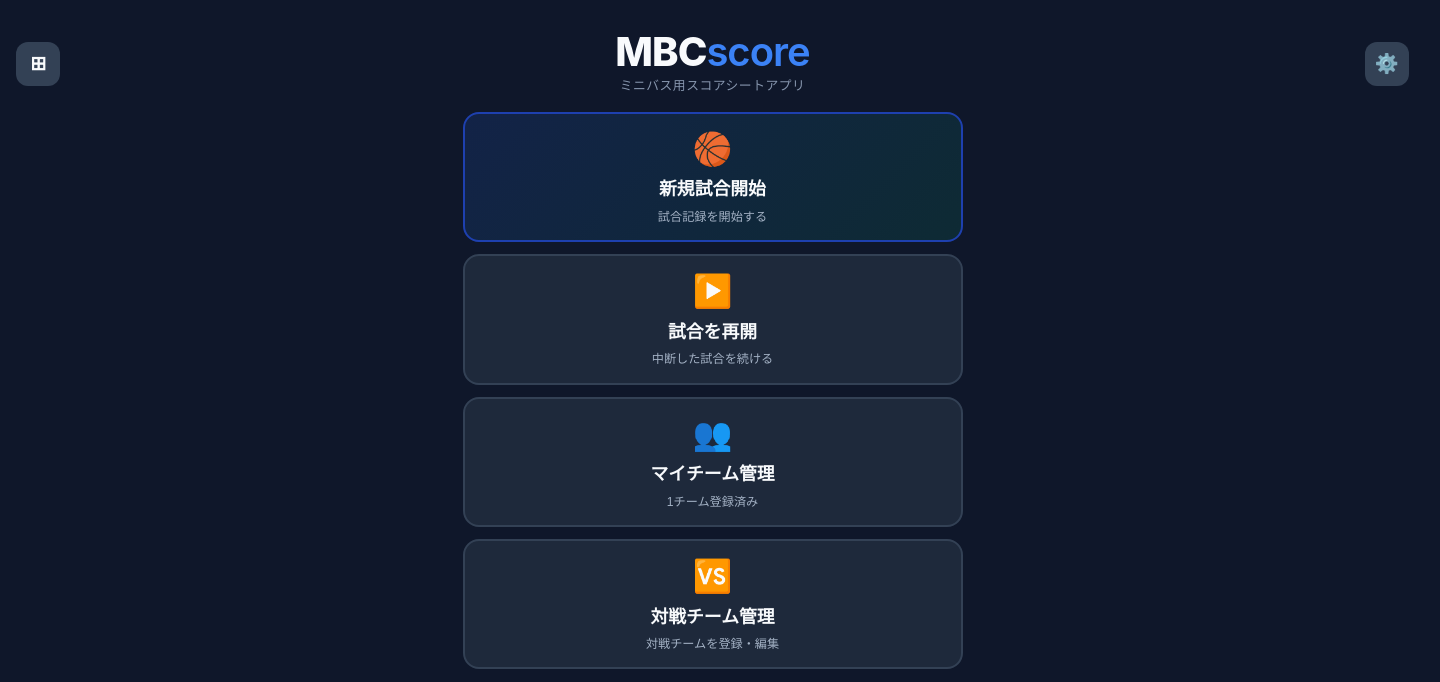
Test case: 交代要員のテクニカル: 6個目以降の確認 › 5ファウルのベンチ選手を選ぶと確認が出る
Click the text "試合を再開" at (713, 330), box [668,317,757,343]
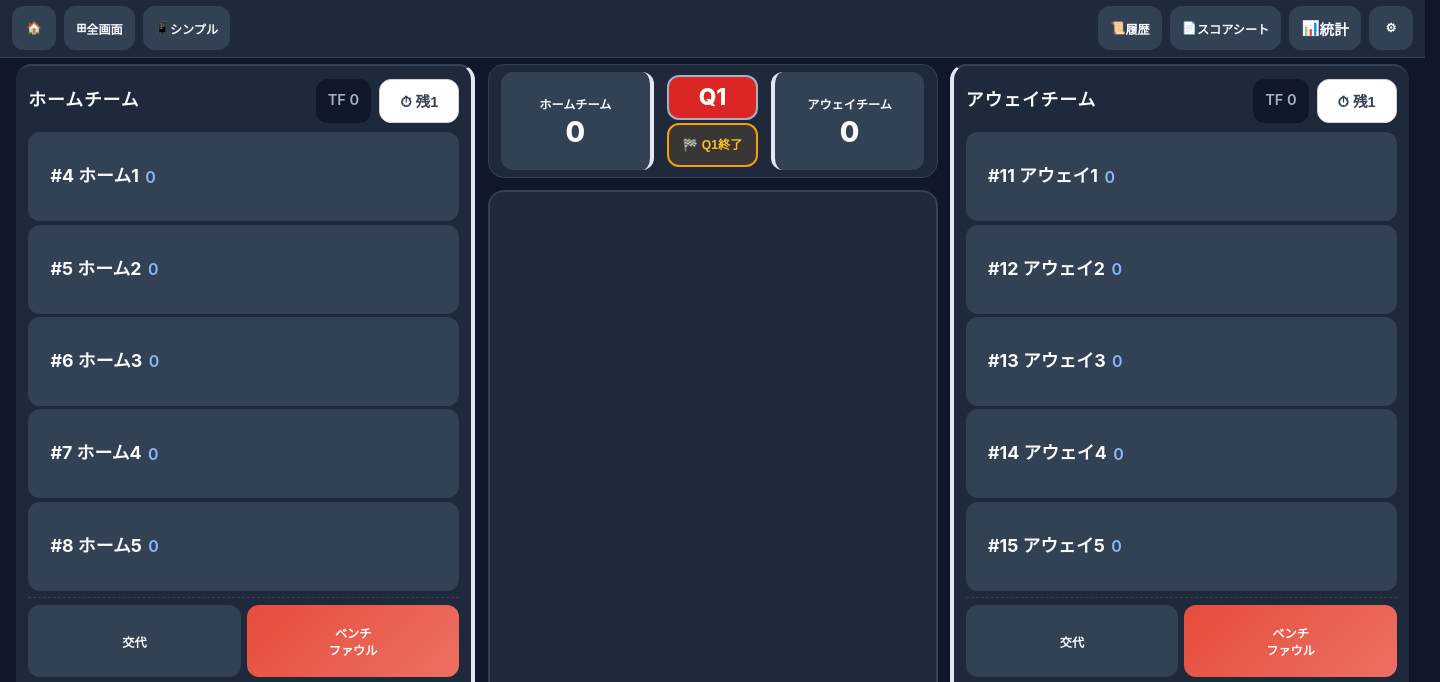
Click the 1st button "ベンチファウル" at (353, 641), box [247,605,459,678]
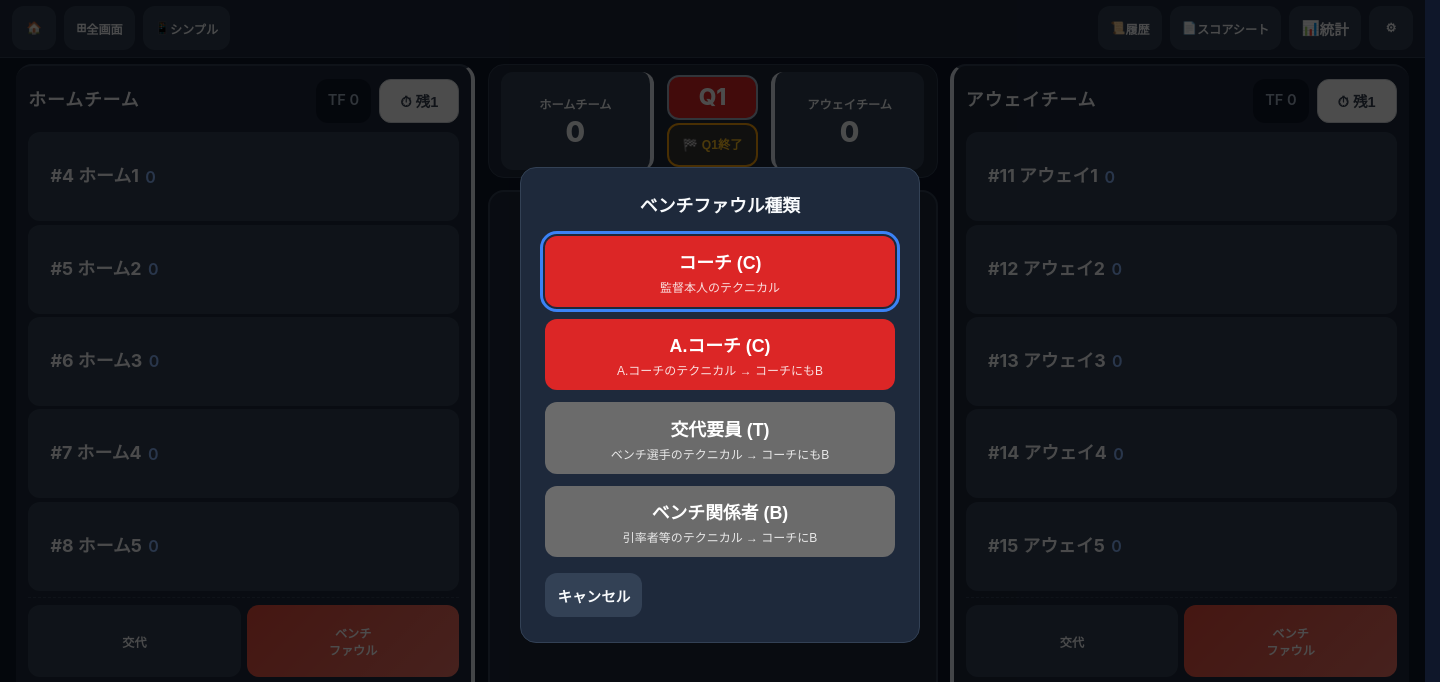
Click the button "交代要員 (T) ベンチ選手のテクニカル → コーチにもB" at (720, 438), box [545,402,895,474]
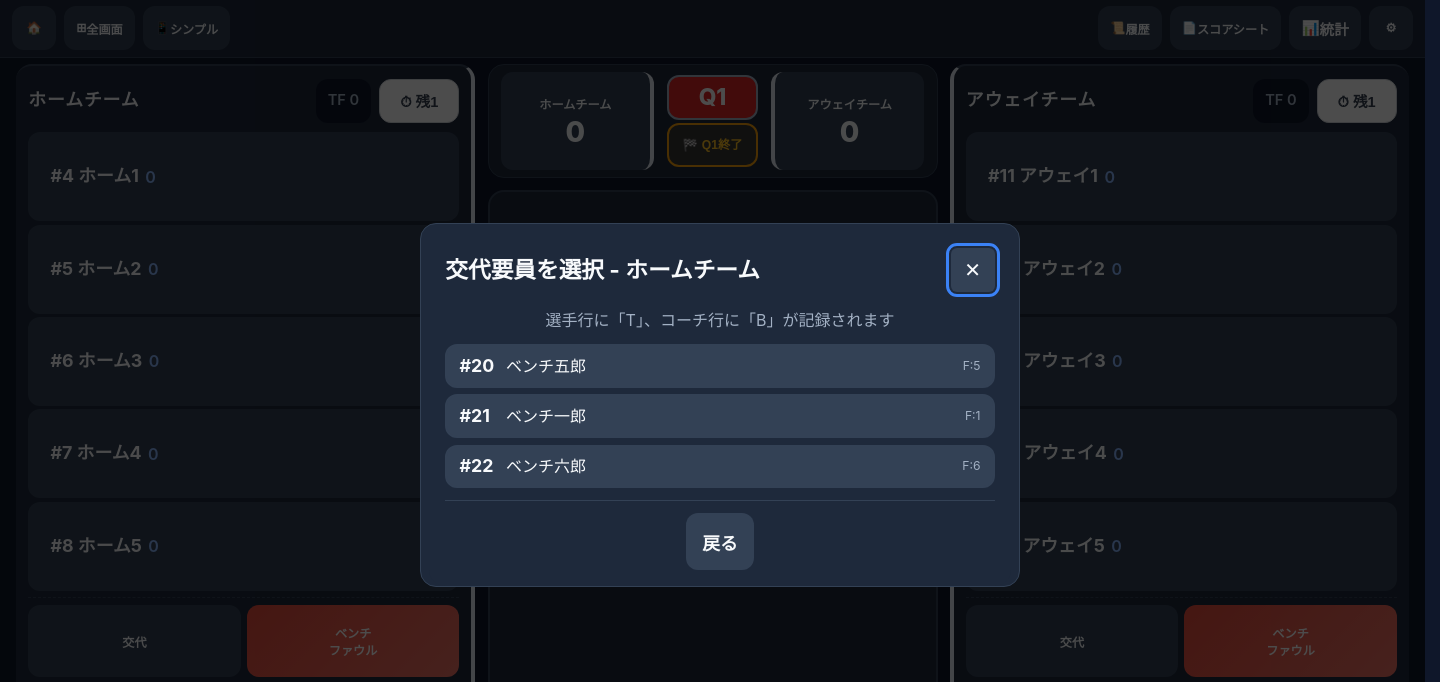
Click the button "#20 ベンチ五郎 F:5" at (546, 366), box [445,344,995,388]
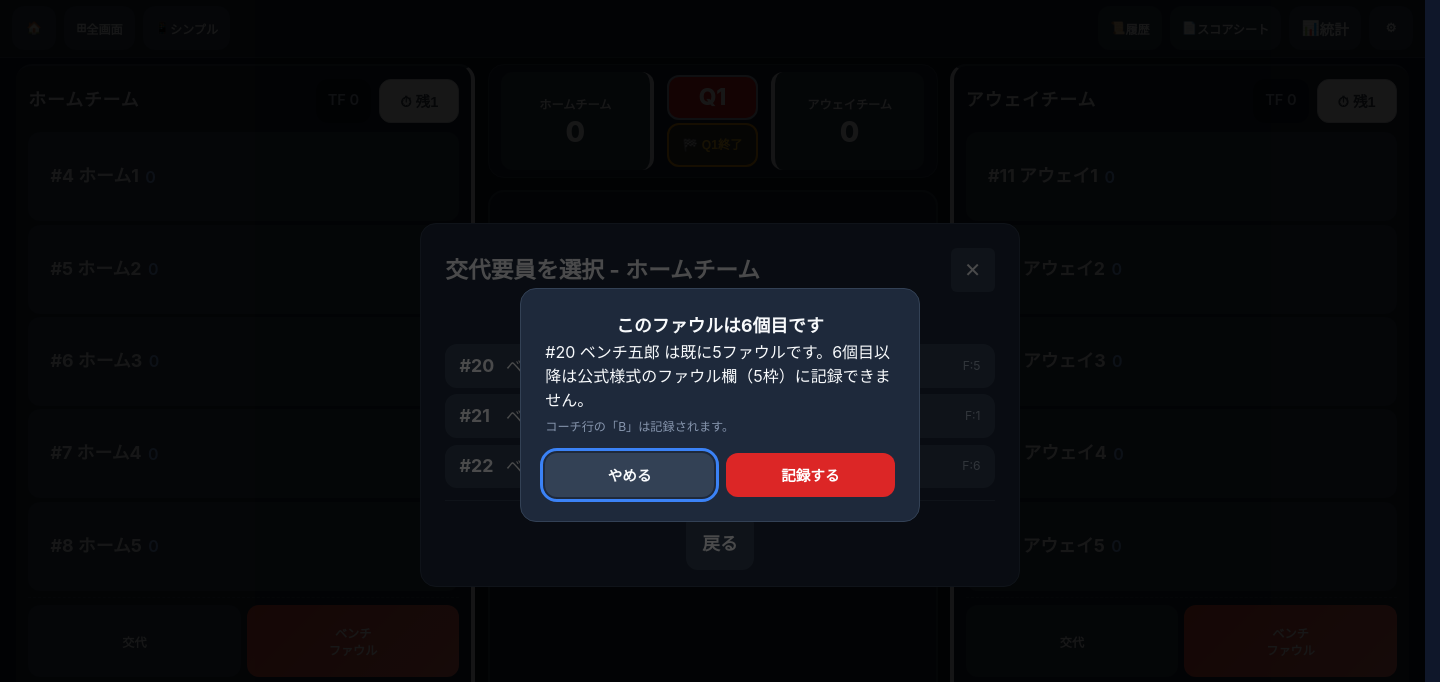
Expected: the heading "このファウルは6個目です" is shown, [616,315,824,336]
